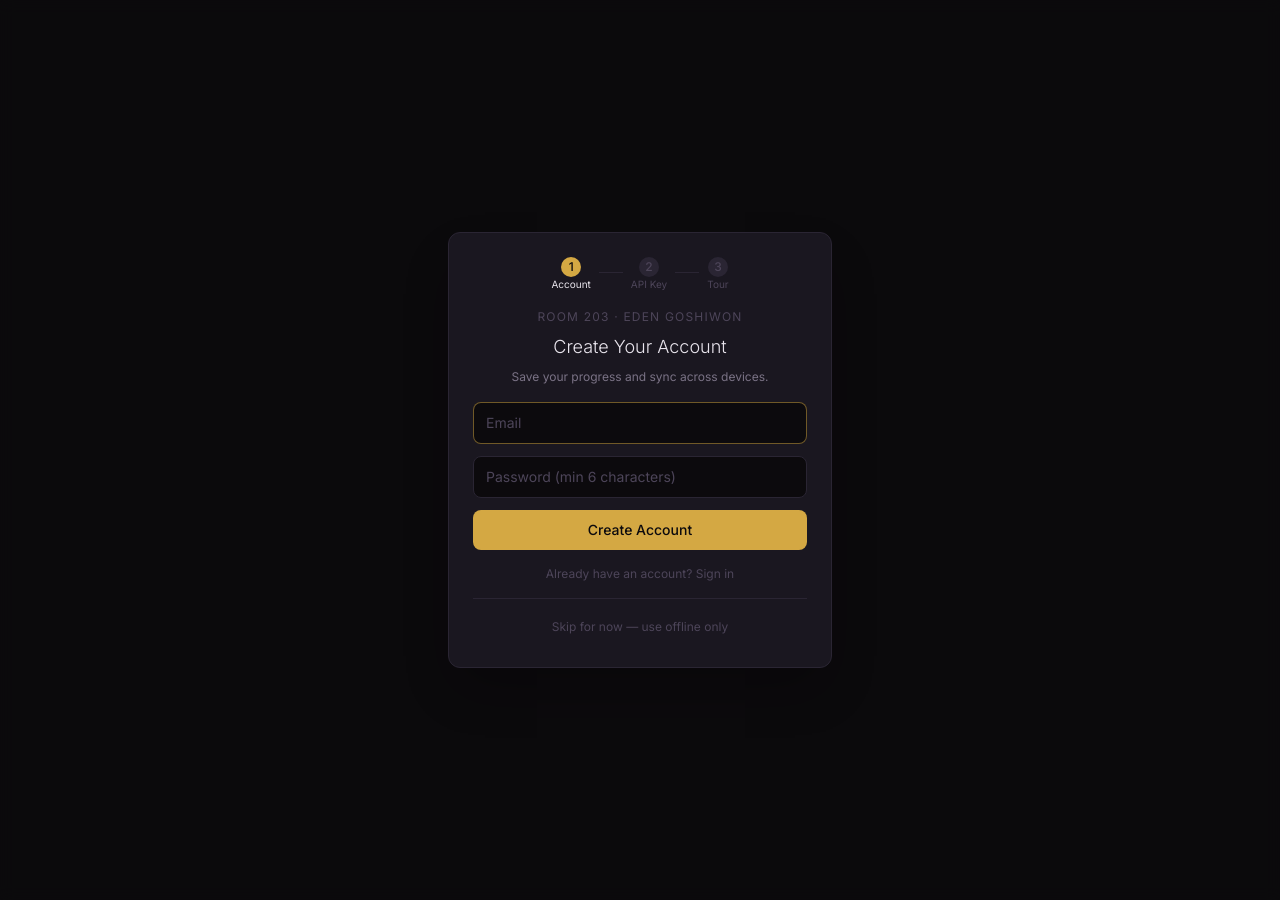
Test case: WelcomeWizard — auth available › toggle to sign in mode
This screenshot has width=1280, height=900.
Click the button "Already have an account? Sign in": [640, 574] box 473,566 -> 807,582
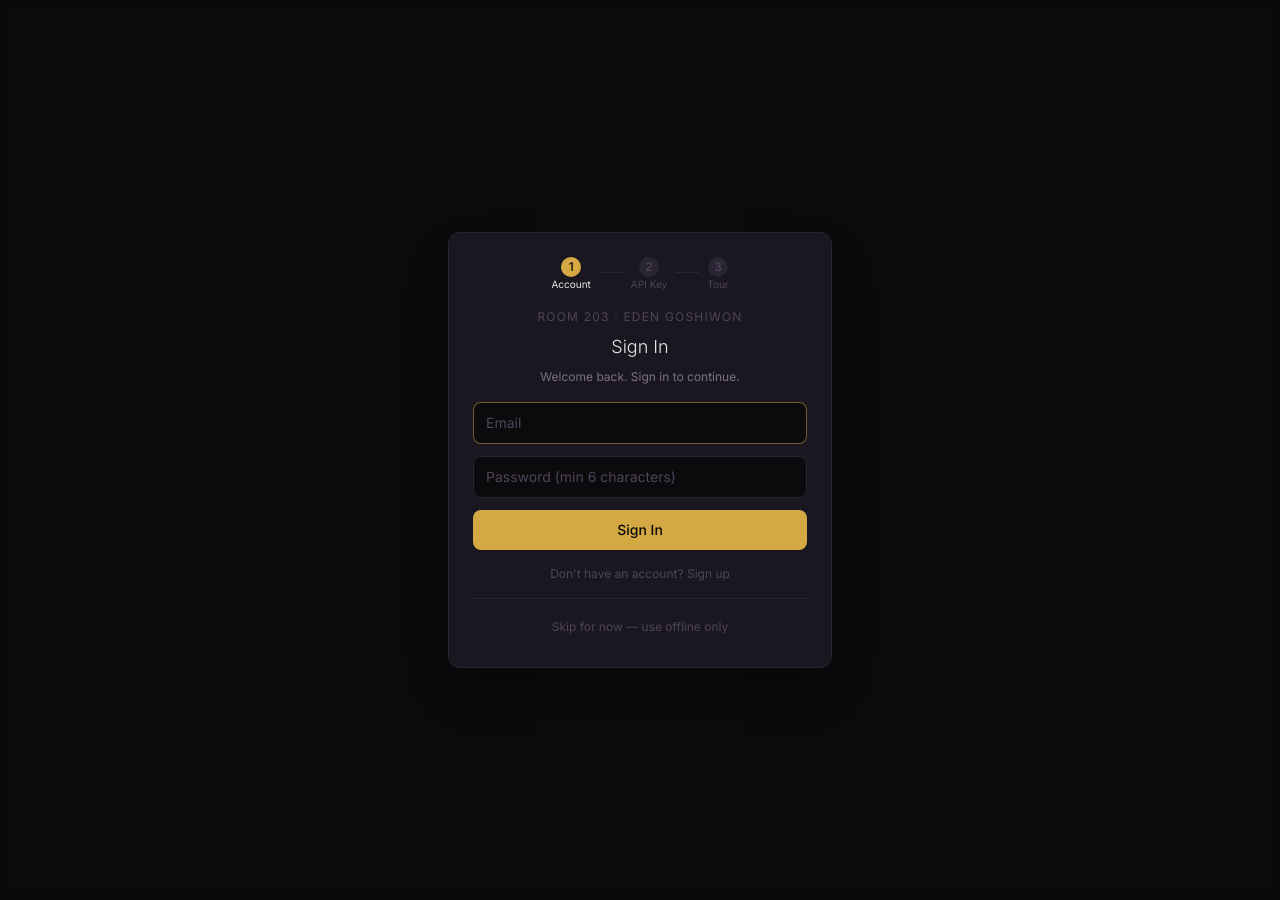
Expected: the heading reads "Sign In", 611,336 -> 669,357
